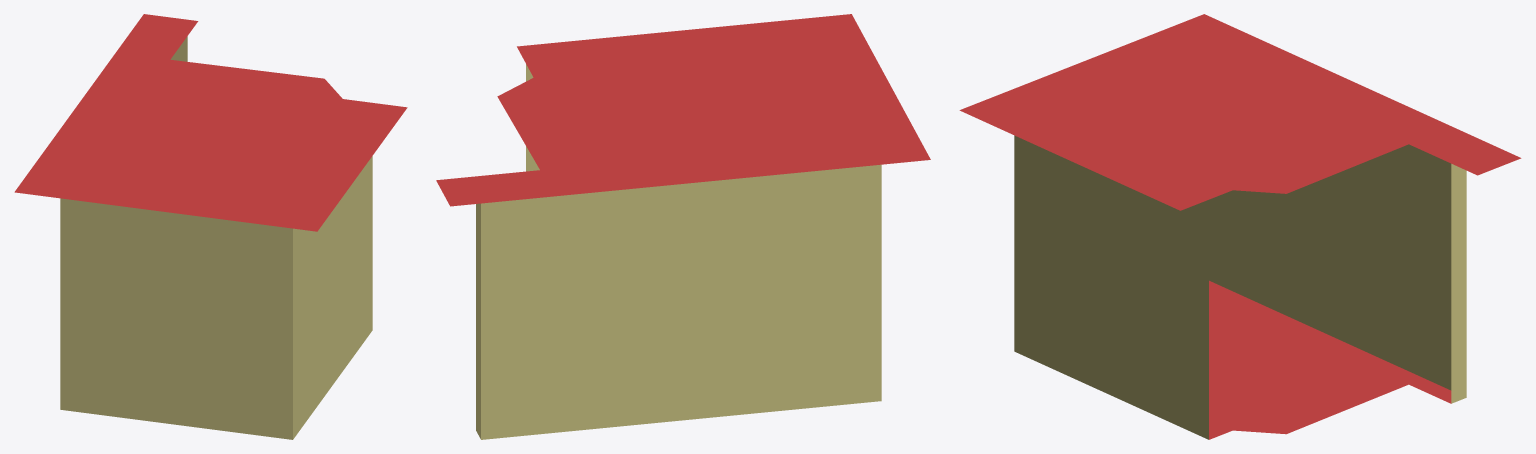
The picture shows the model from 3 angles, left to right: view 1: azimuth 30°, elevation 25°; view 2: azimuth 150°, elevation 25°; view 3: azimuth 270°, elevation 25°; orthographic projection. The views are drawn at different scales.
Bounding box in the file's own units: 8.98 × 10.84 × 5.11.
